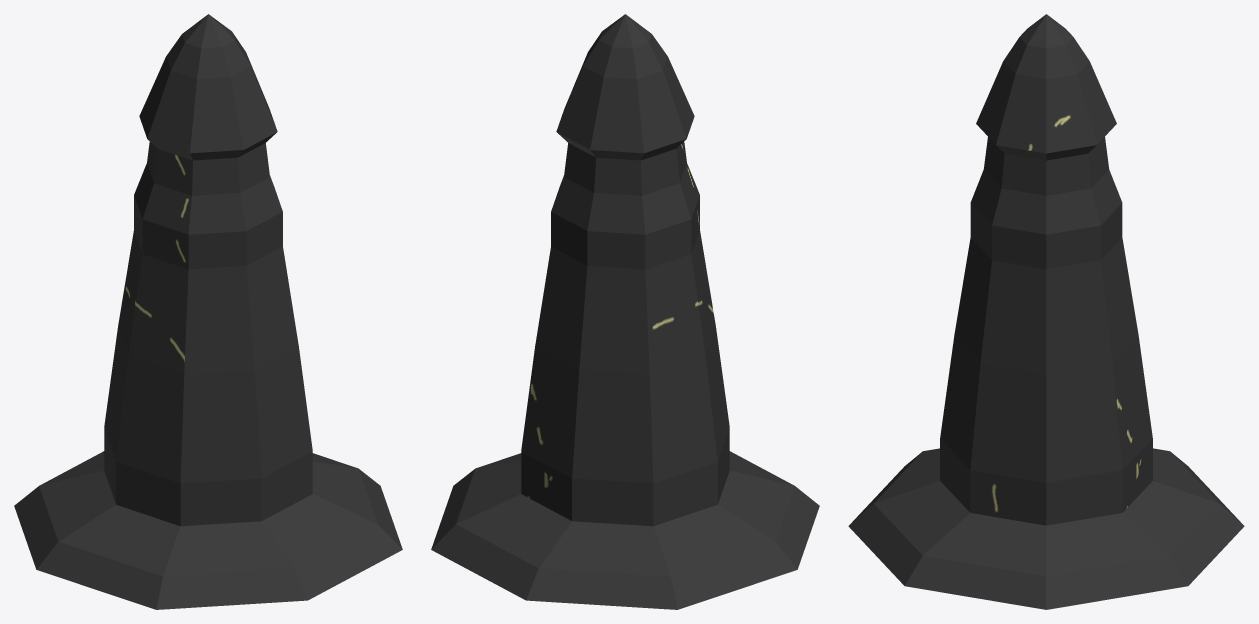
File: Faro.fbx
3 renders of one model, left to right at view 1: azimuth 30°, elevation 25°; view 2: azimuth 150°, elevation 25°; view 3: azimuth 270°, elevation 25°, orthographic.
Parts seen in each view (by area): view 1: Faro; view 2: Faro; view 3: Faro.
Boxes of the visible parts, x1=… form: Faro: x1=14, y1=14, x2=402, y2=609; Faro: x1=431, y1=14, x2=819, y2=609; Faro: x1=848, y1=14, x2=1244, y2=609.
Size of the model in its own units: 2402 by 3426 by 2402.
